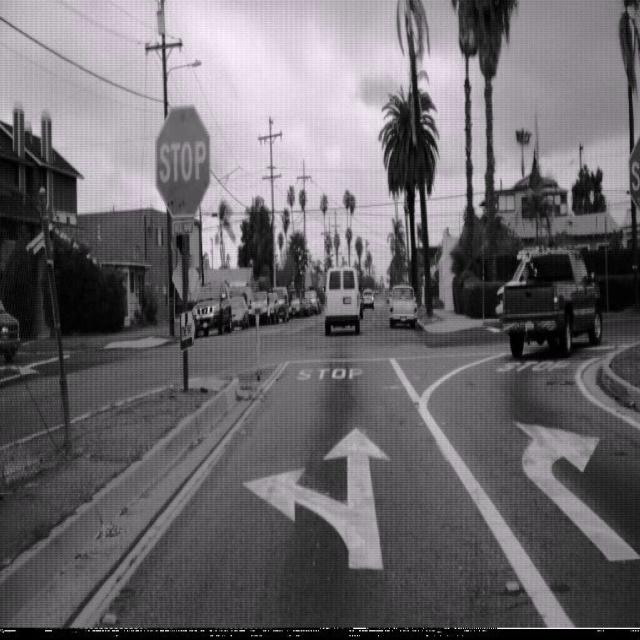stop: (154, 103, 211, 219)
